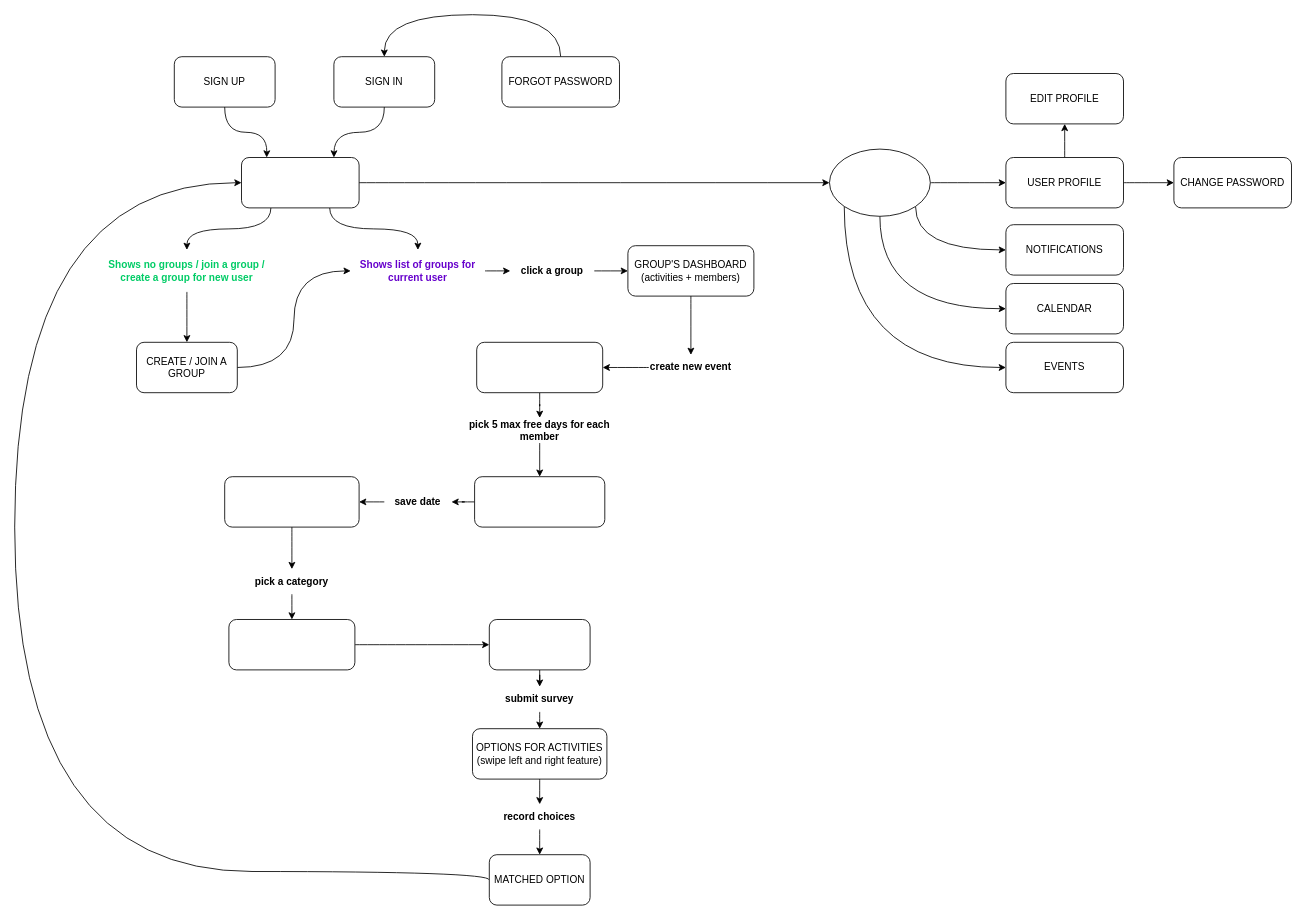
The diagram is 1306 pixels wide and 920 high, and some of its shapes have lost their labels. Here are the shapes that lost their labels. From the top down, the box of each, then its label:
(241, 157, 359, 208): HOME PAGE
(829, 148, 930, 216): SIDE DRAWER
(476, 341, 603, 393): CALENDAR (date picker)
(224, 476, 359, 527): LIST OF CATEGORIES (acitivities + restos + movies)
(474, 476, 605, 527): EVENT DATE (date when majority is free)
(228, 619, 355, 670): CATEGORY (eg Activities)
(488, 619, 590, 670): SURVEY (eg Activities)
